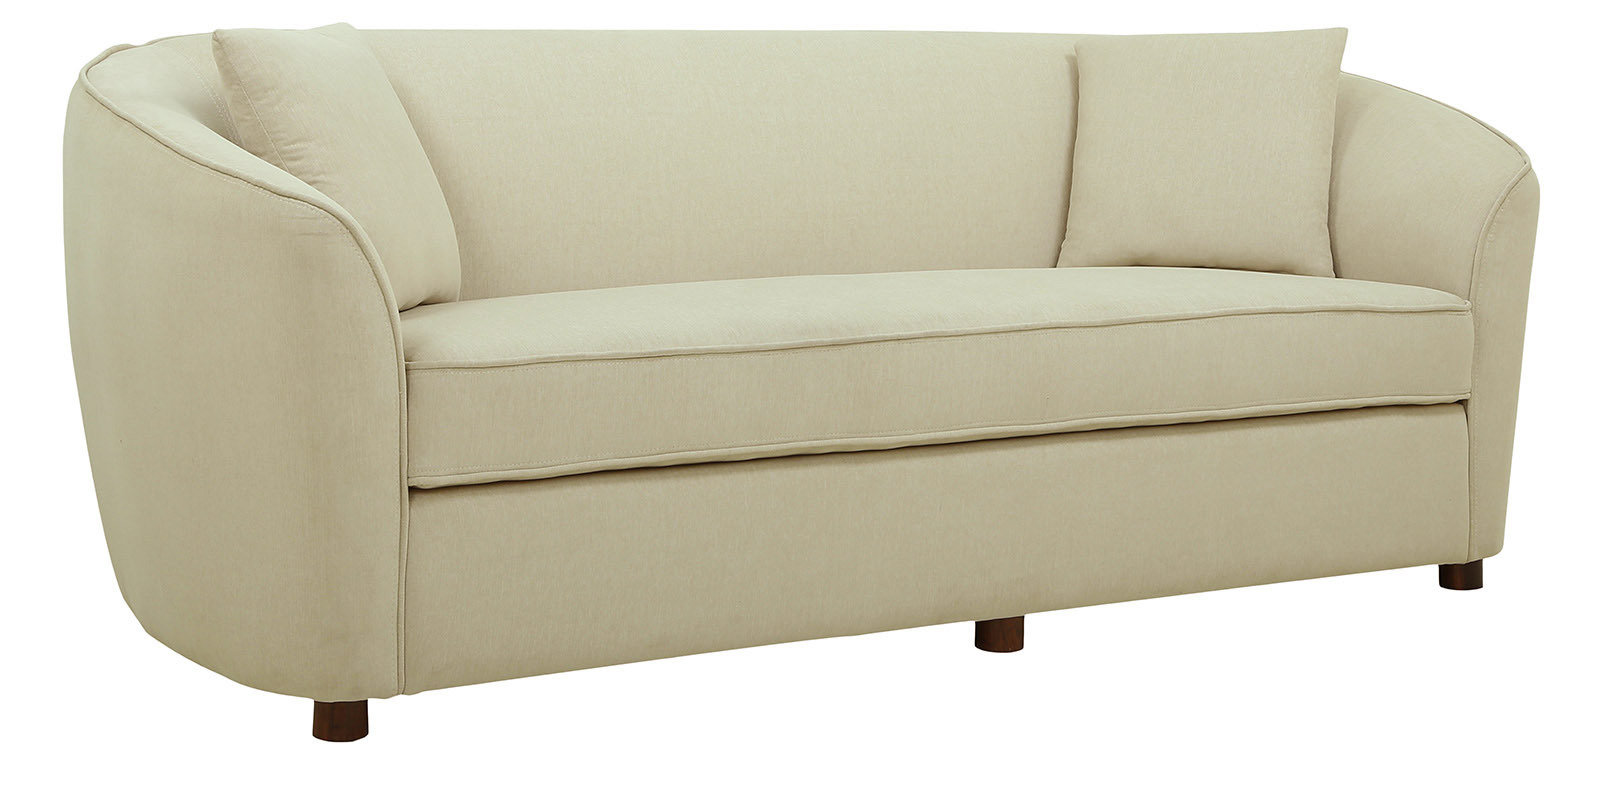Mamore Three Seater Sofa in Beige Color by CasaCraft: (61, 18, 1539, 742)
